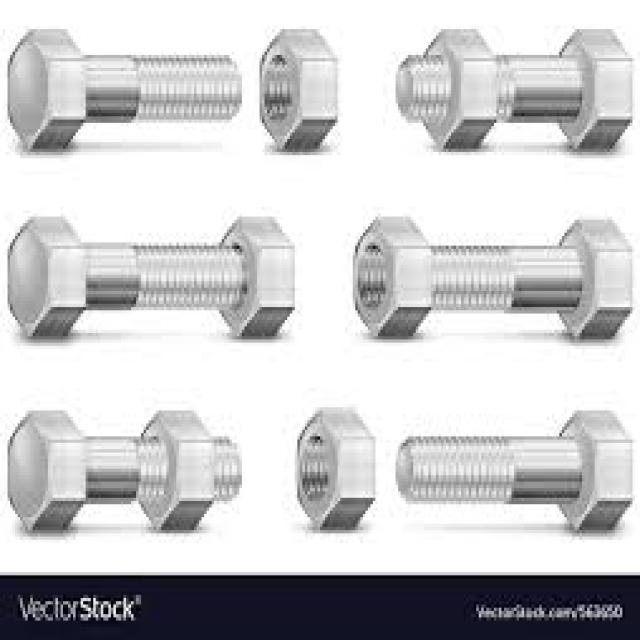metal: (5, 214, 242, 340), (393, 411, 630, 534), (5, 407, 239, 530), (5, 26, 237, 149), (398, 29, 630, 149), (426, 213, 630, 343), (293, 404, 376, 527), (257, 29, 338, 149), (353, 214, 428, 340), (136, 407, 209, 530), (217, 213, 290, 336), (423, 26, 494, 149)
